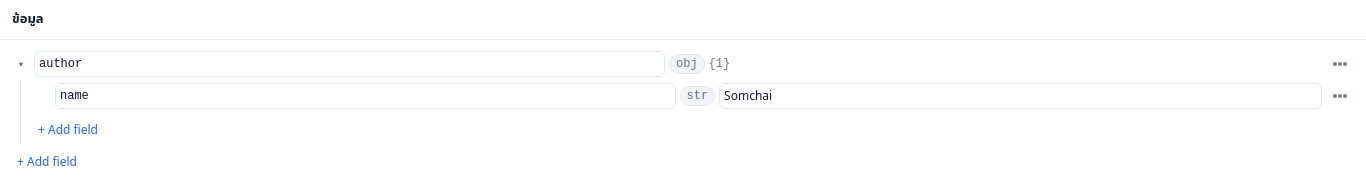
Test: DataView › DataView collapses a nested object
expect the field showing "Somchai" is shown: met, box [719,83,1322,109]
Click the button named "Toggle author" at (21, 64), box [12,55,30,73]
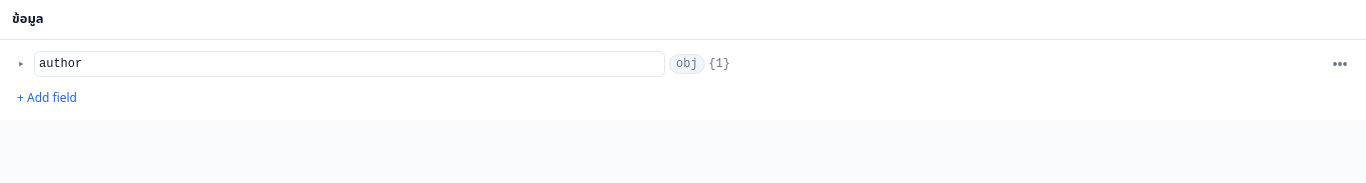
expect the field showing "Somchai" is not shown: met
Click the button named "Toggle author" at (21, 64), box [12,55,30,73]
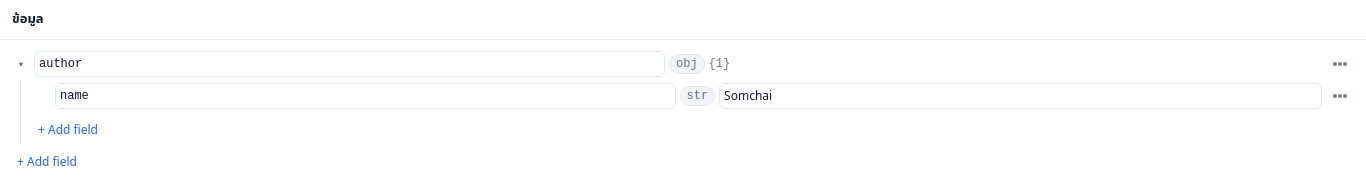
expect the field showing "Somchai" is shown: met, box [719,83,1322,109]
